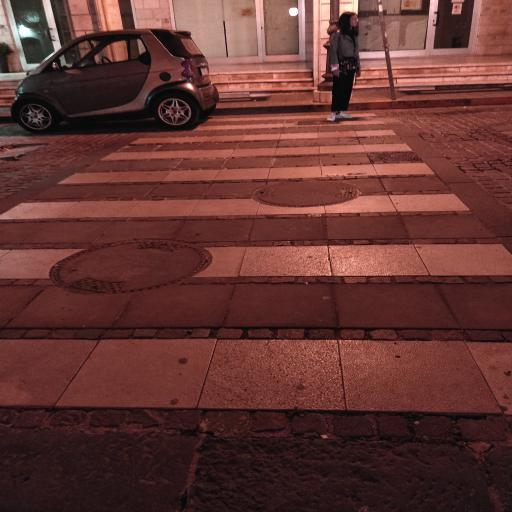crosswalk: (1, 188, 511, 292), (88, 124, 416, 166)
